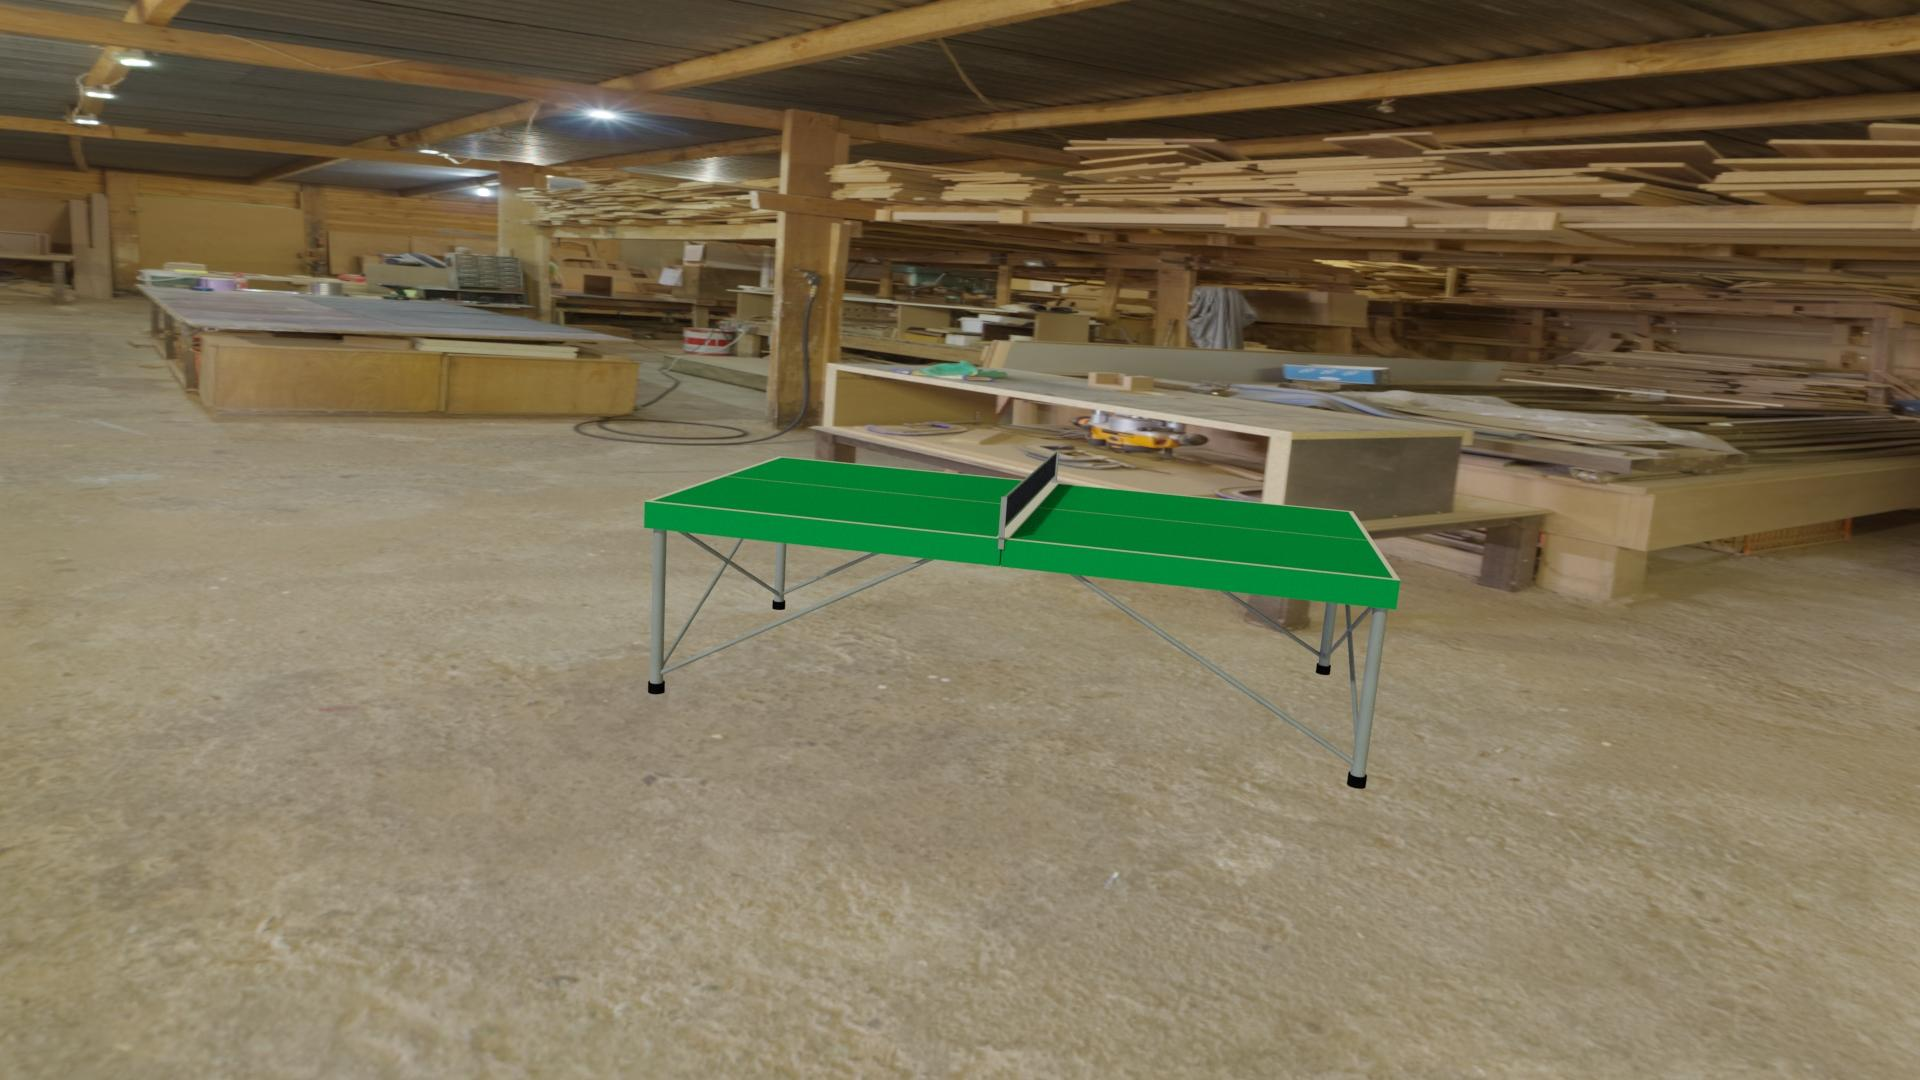table: (651, 458, 1394, 579)
